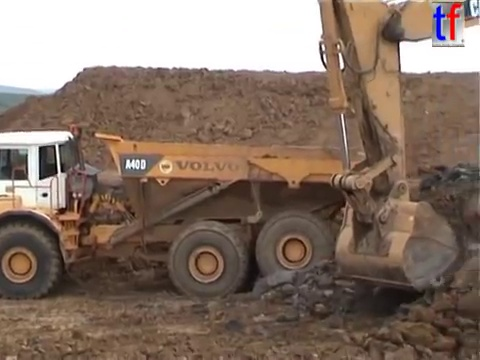excavator: (311, 1, 480, 297)
truck: (1, 122, 406, 305)
